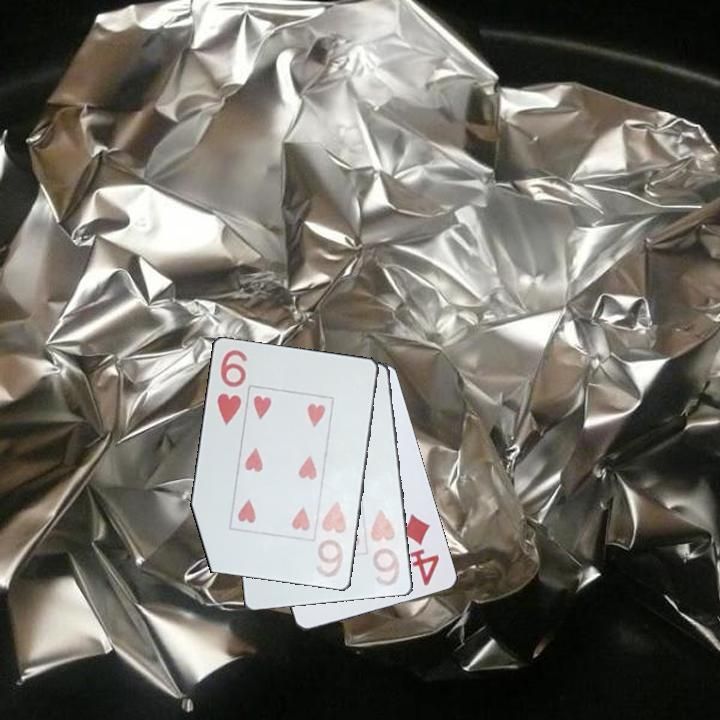4d: (400, 510, 442, 589)
6h: (311, 497, 351, 581), (367, 505, 405, 589), (214, 346, 250, 429)
